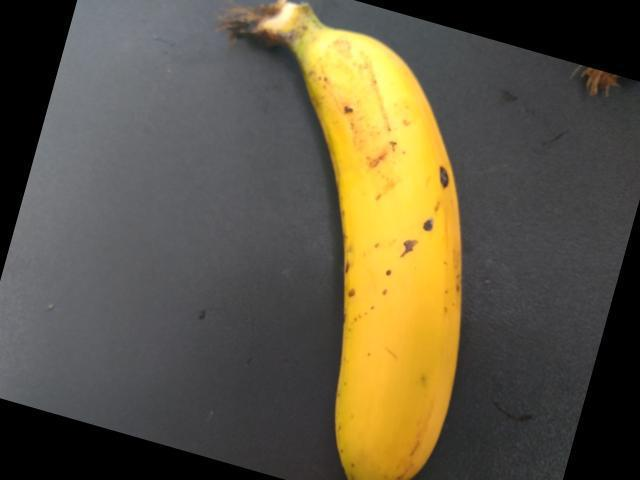ripe: (275, 37, 536, 479)
